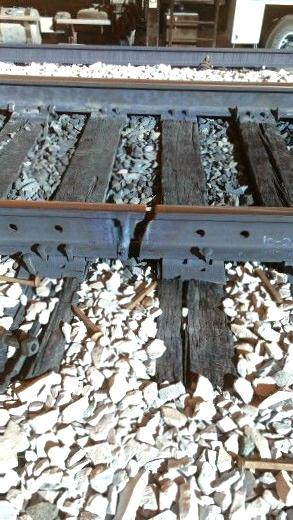tracks_fault: (116, 192, 163, 269)
